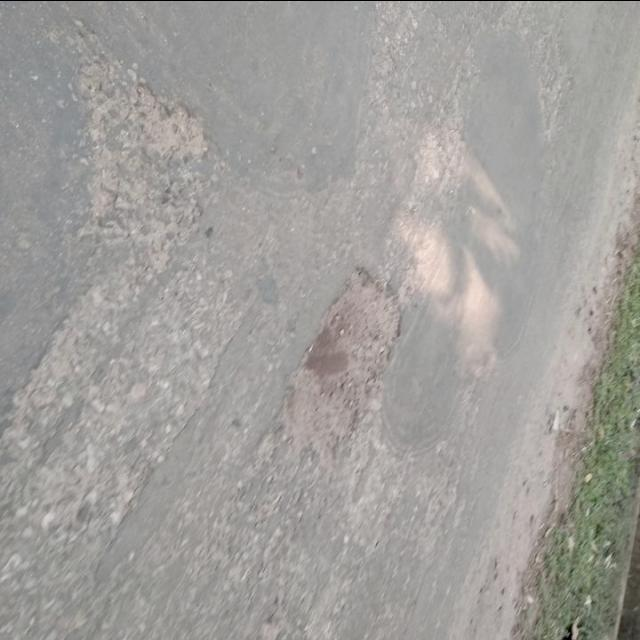pothole: (264, 234, 422, 460), (64, 59, 224, 256)
